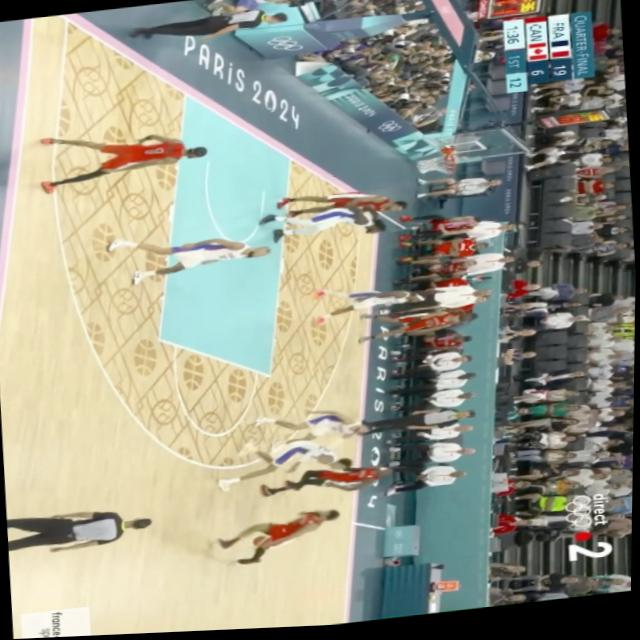ball_handler: (214, 509, 342, 561)
